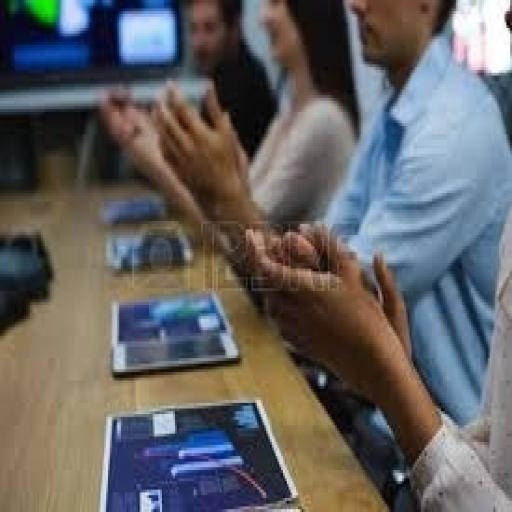clapping: (95, 0, 510, 509)
